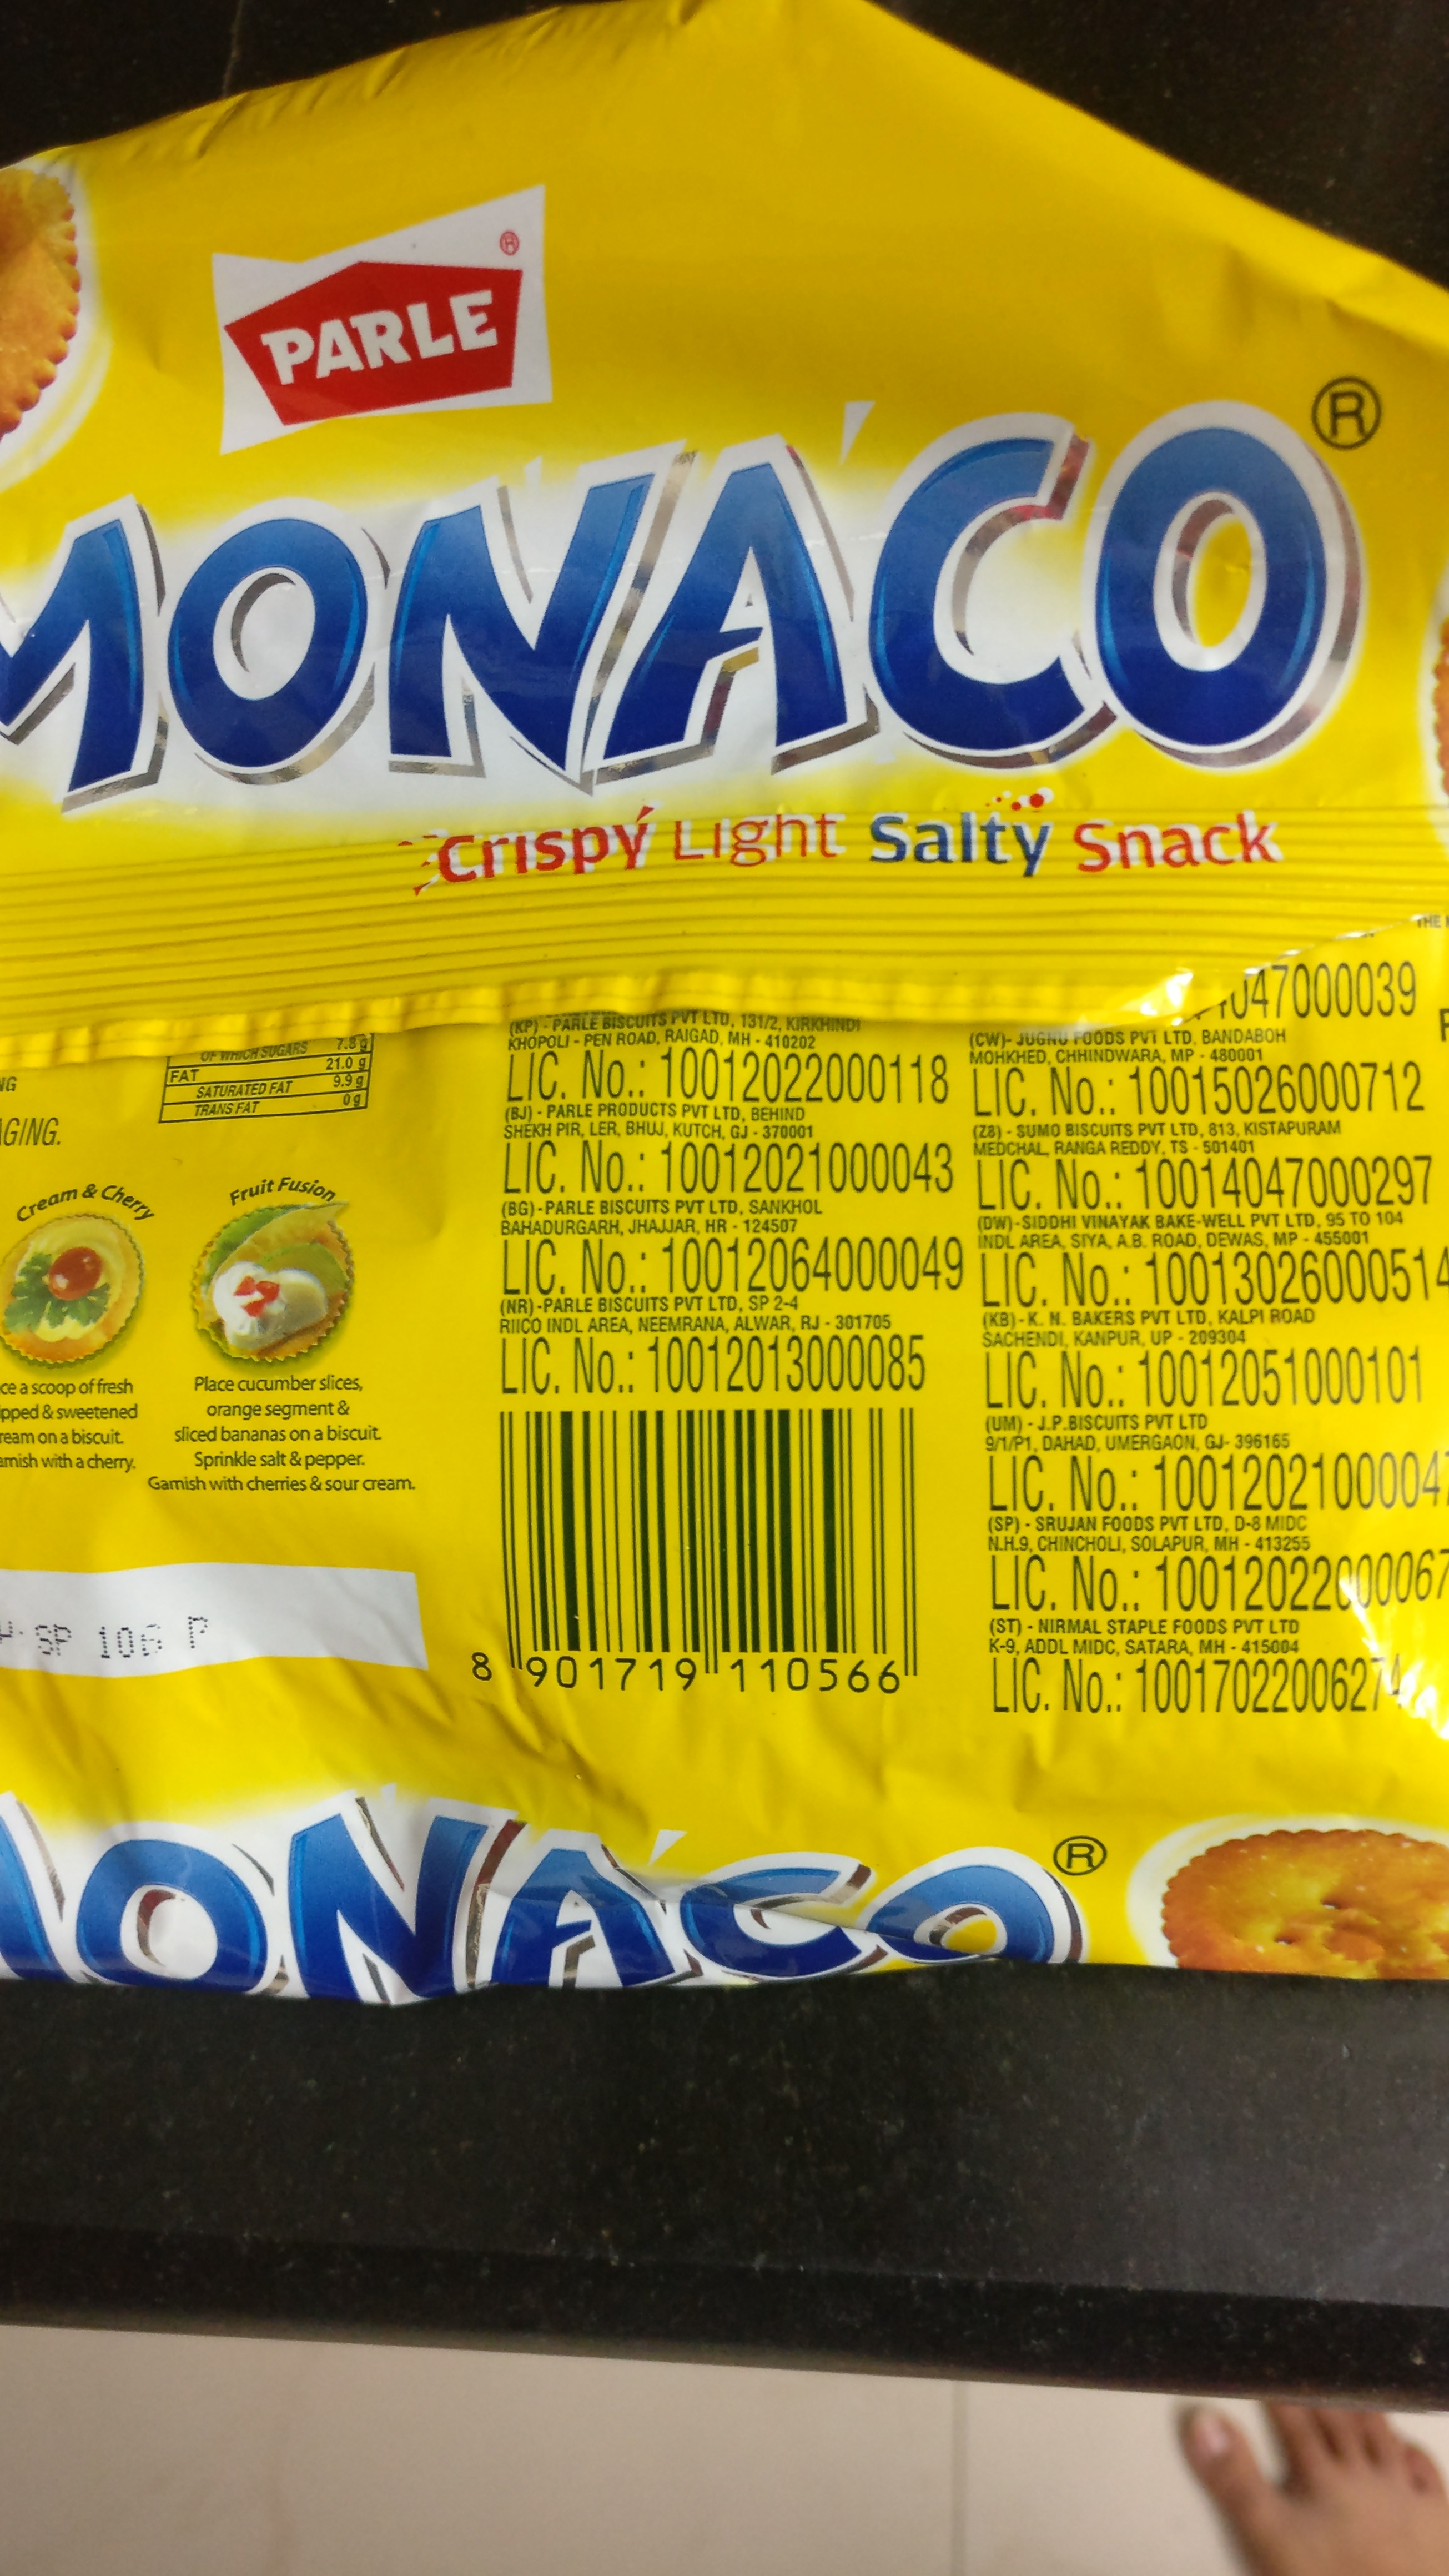barcode: (453, 1399, 968, 1736)
